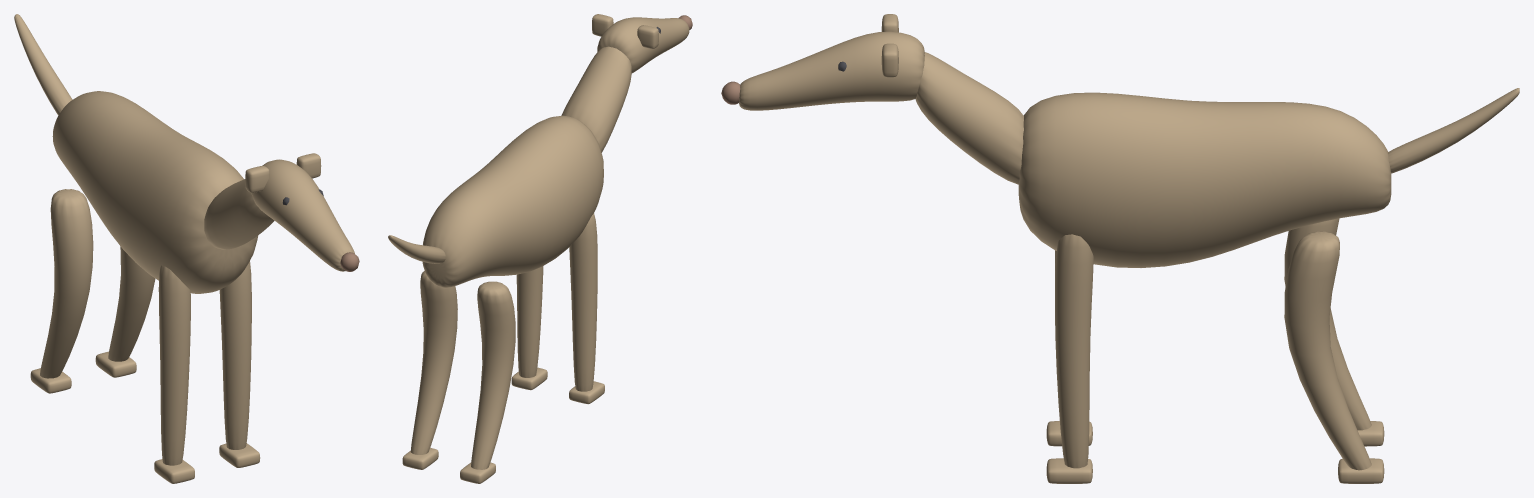
File: dog_mongrel.glb
3 renders of one model, left to right at view 1: azimuth 30°, elevation 25°; view 2: azimuth 150°, elevation 25°; view 3: azimuth 270°, elevation 25°, orthographic. The views are drawn at different scales.
Parts seen in each view (by area): view 1: dog_mongrel; view 2: dog_mongrel; view 3: dog_mongrel.
Boxes of the visible parts, left/top/right/bottom form: dog_mongrel: left=14, top=14, right=359, bottom=483; dog_mongrel: left=388, top=14, right=692, bottom=483; dog_mongrel: left=721, top=14, right=1519, bottom=483.
Size of what is drawn, in the model's own units: 0.1942 by 0.6702 by 1.13.
